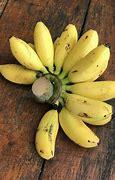banana: (0, 22, 112, 158), (22, 82, 115, 166), (0, 17, 110, 84)
